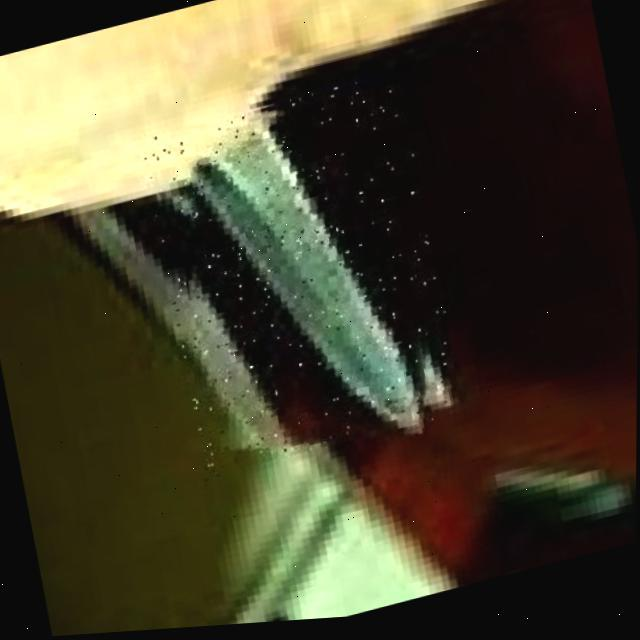knife: (138, 73, 470, 490)
